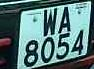0: (39, 36, 57, 65)
4: (71, 30, 86, 57)
5: (55, 33, 72, 61)
8: (21, 38, 41, 67)
A: (59, 4, 72, 37)
W: (42, 7, 58, 38)
